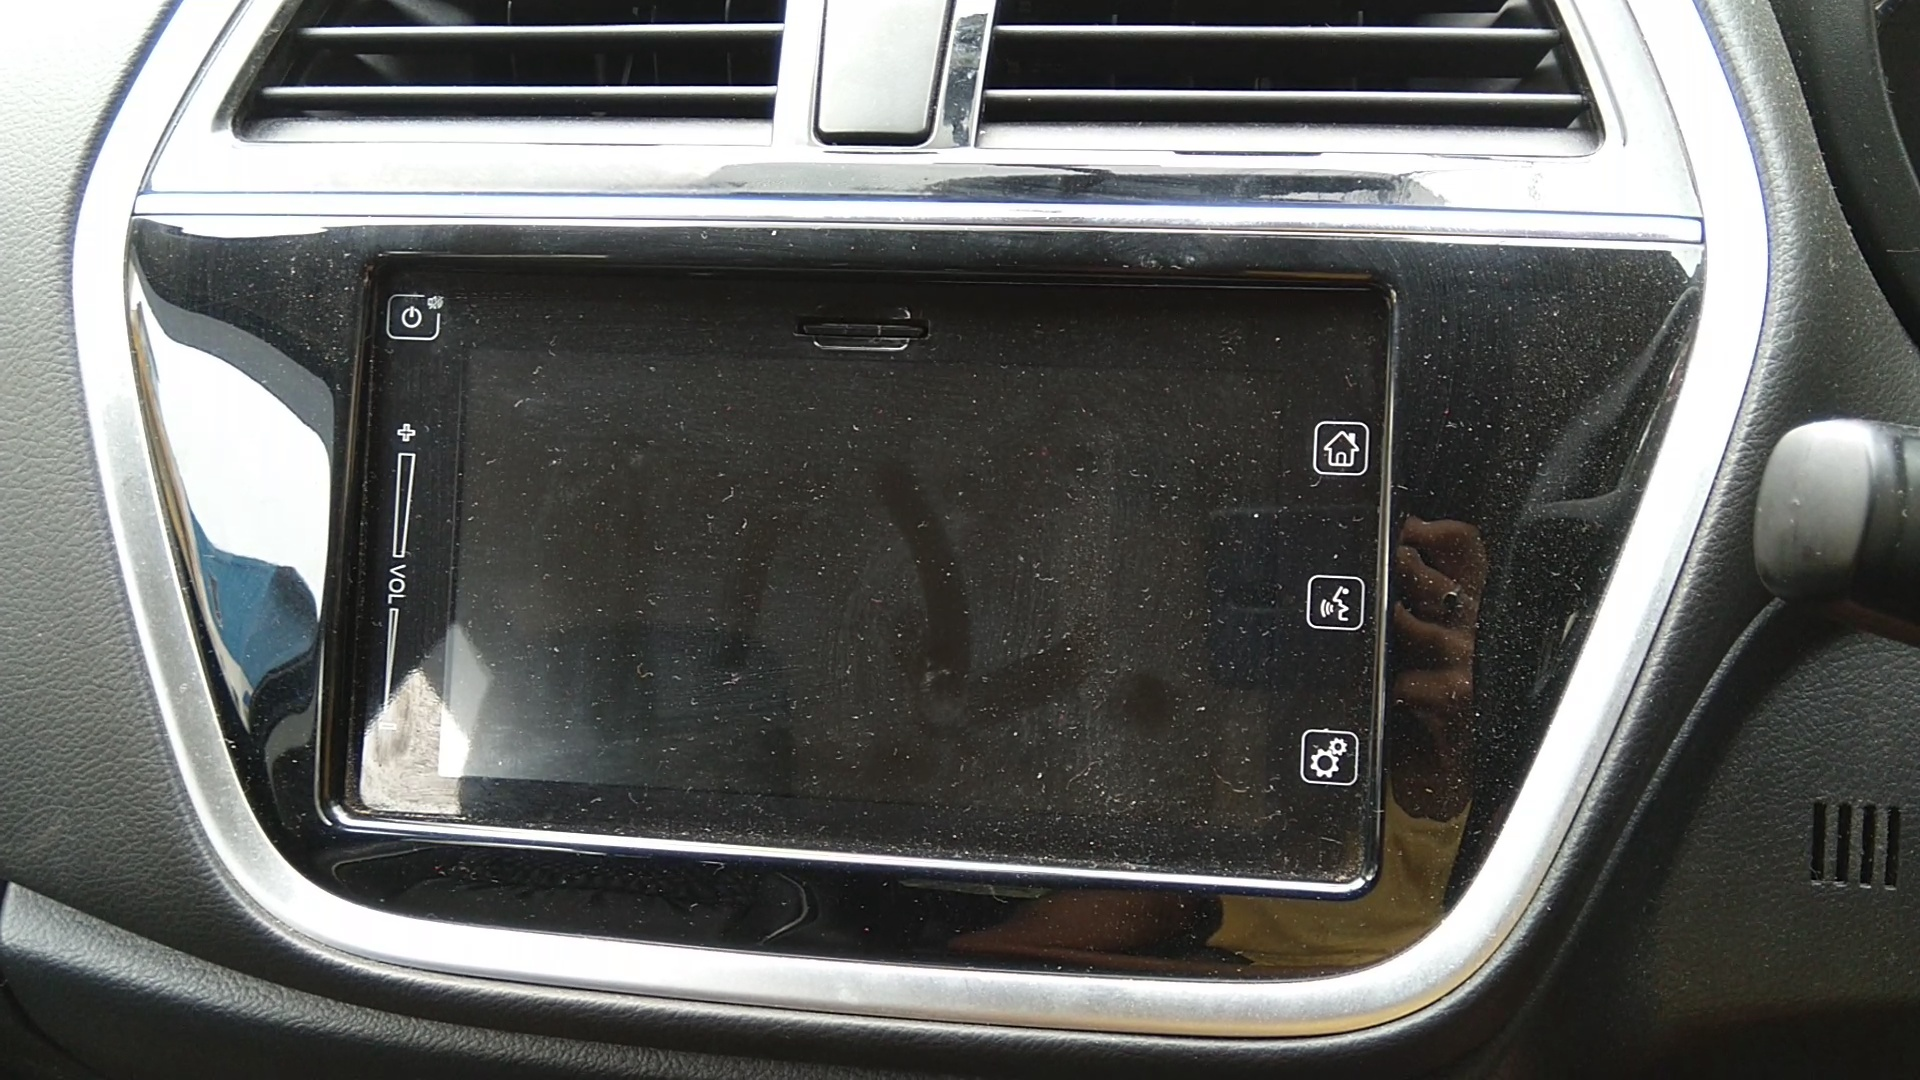touch_infotainment: (356, 245, 1379, 913)
